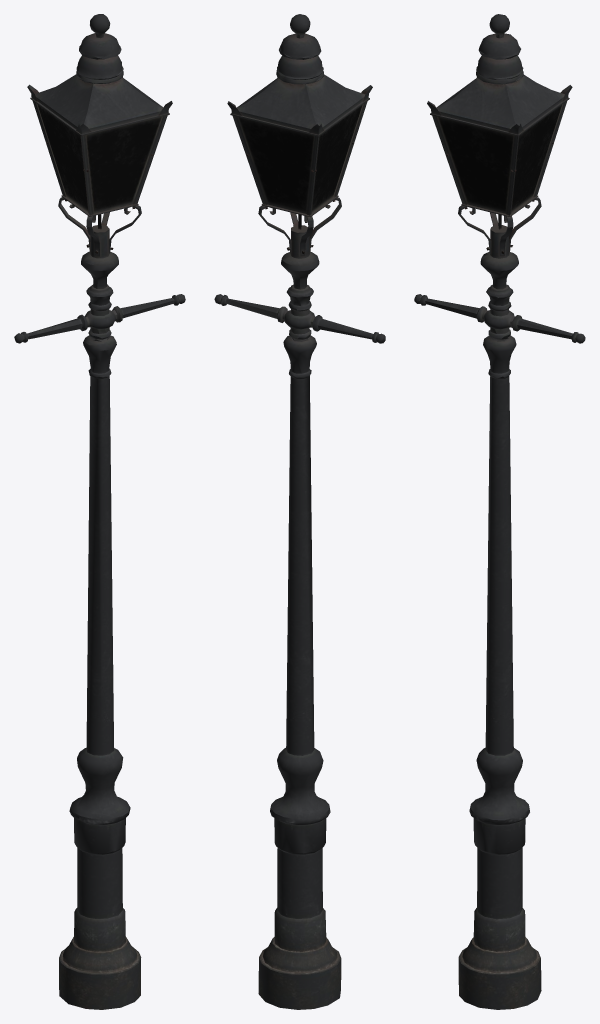
File: street_lamp_01.glb
3 renders of one model, left to right at view 1: azimuth 30°, elevation 25°; view 2: azimuth 150°, elevation 25°; view 3: azimuth 330°, elevation 25°, orthographic.
Parts seen in each view (by area): view 1: street_lamp_01; view 2: street_lamp_01; view 3: street_lamp_01.
Part boxes in pixels (box(x1,y1,x2,y2)): street_lamp_01: box(14, 14, 185, 1009); street_lamp_01: box(214, 14, 385, 1009); street_lamp_01: box(414, 14, 585, 1009).
Size of the model in its own units: 0.7047 by 3.87 by 0.3844.
Materials: 1 (1 with a texture image).
